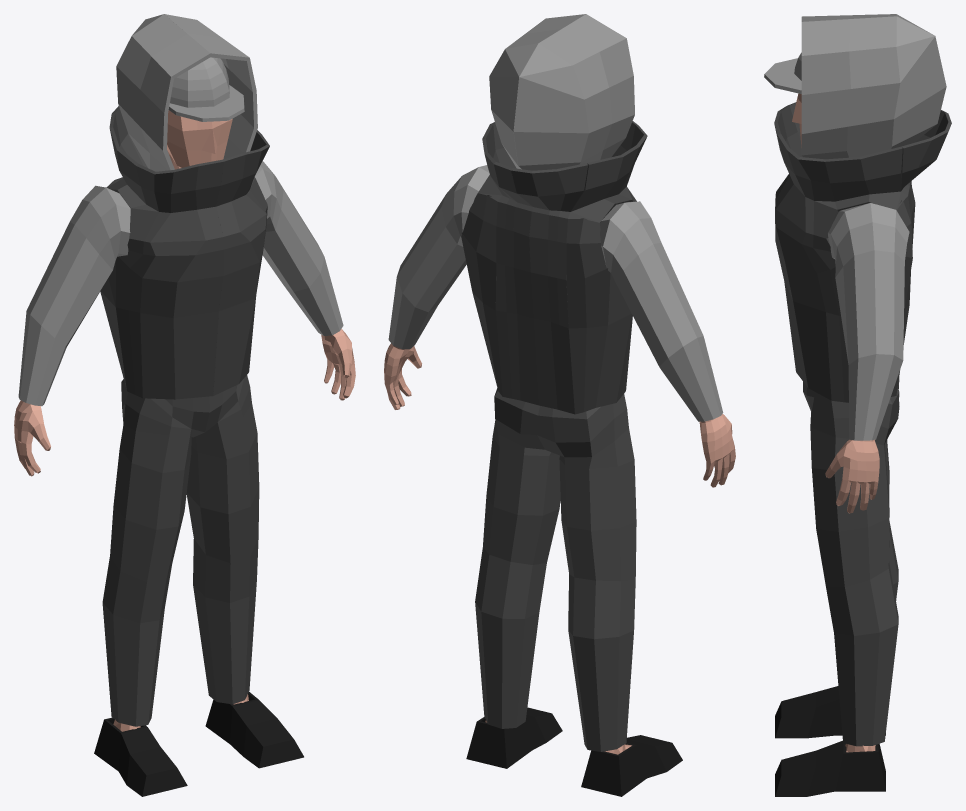
The model's file is Turro.fbx.
3 views of the same model, side by side, from view 1: azimuth 30°, elevation 25°; view 2: azimuth 150°, elevation 25°; view 3: azimuth 270°, elevation 25° (orthographic). The views are drawn at different scales.
Parts seen in each view (by area): view 1: Sphere.001; view 2: Sphere.001; view 3: Sphere.001.
Part boxes in pixels (x1,y1,x2,y2): Sphere.001: (14, 14, 355, 796); Sphere.001: (384, 14, 735, 796); Sphere.001: (764, 14, 951, 796).
Size of the model in its own units: 846 by 1745 by 402.
